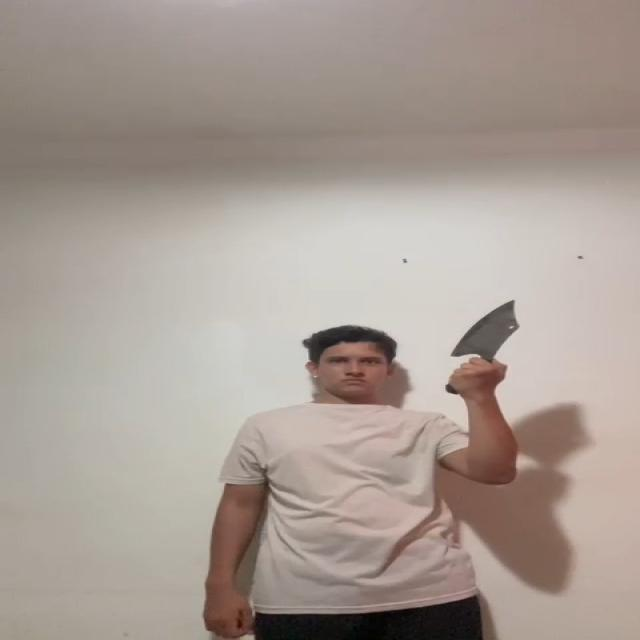knife: (453, 300, 520, 354)
